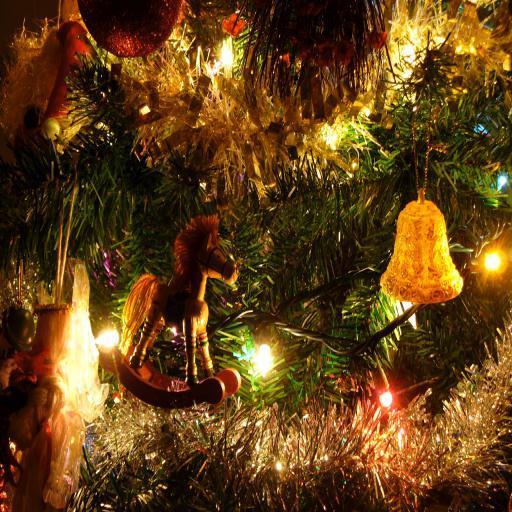horse: (117, 210, 241, 388)
